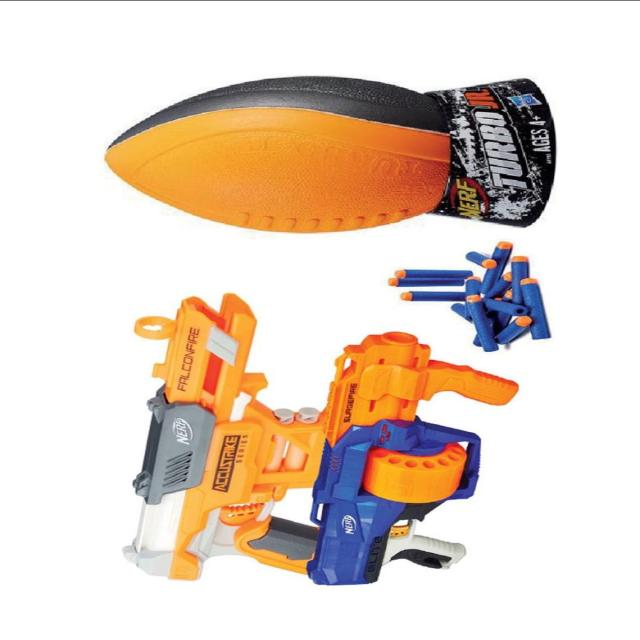Nerf gun: (111, 286, 336, 592), (299, 325, 526, 591)
